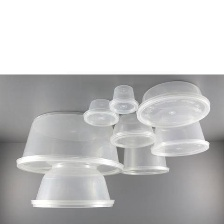plastic_box: (11, 106, 129, 180), (26, 159, 118, 214), (132, 76, 213, 132), (145, 117, 213, 160), (107, 109, 159, 151), (118, 139, 172, 178), (79, 95, 123, 130), (106, 81, 141, 118)
